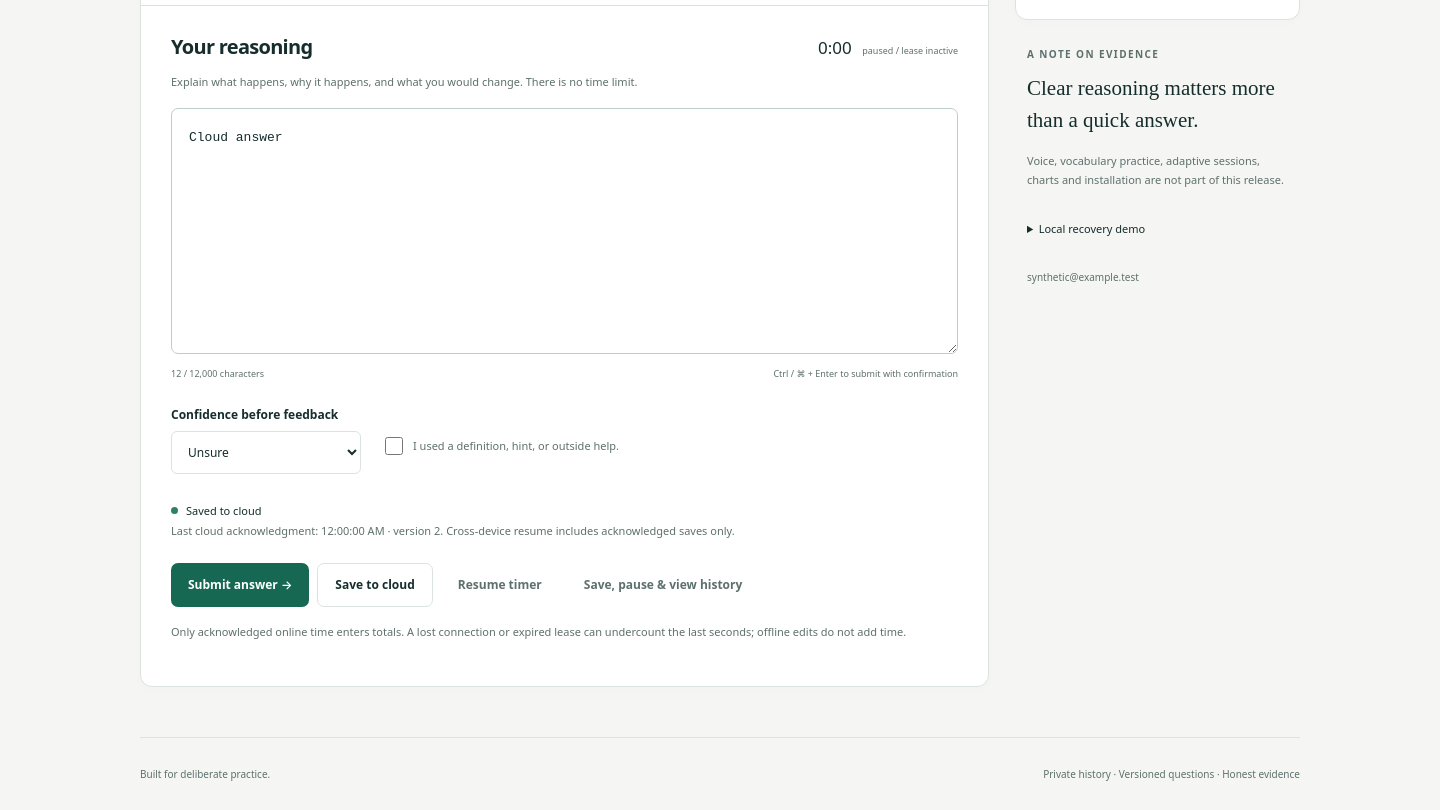
Scenario: opens a pinned historical version after saving and pausing an active draft when the catalog is empty
(page scrolled)
Check: the text box named "Your answer" is shown, box x1=171 y1=108 x2=958 y2=354
Click the button "Save, pause & view history" at (663, 585), box x1=567 y1=563 x2=759 y2=607
(page scrolled)
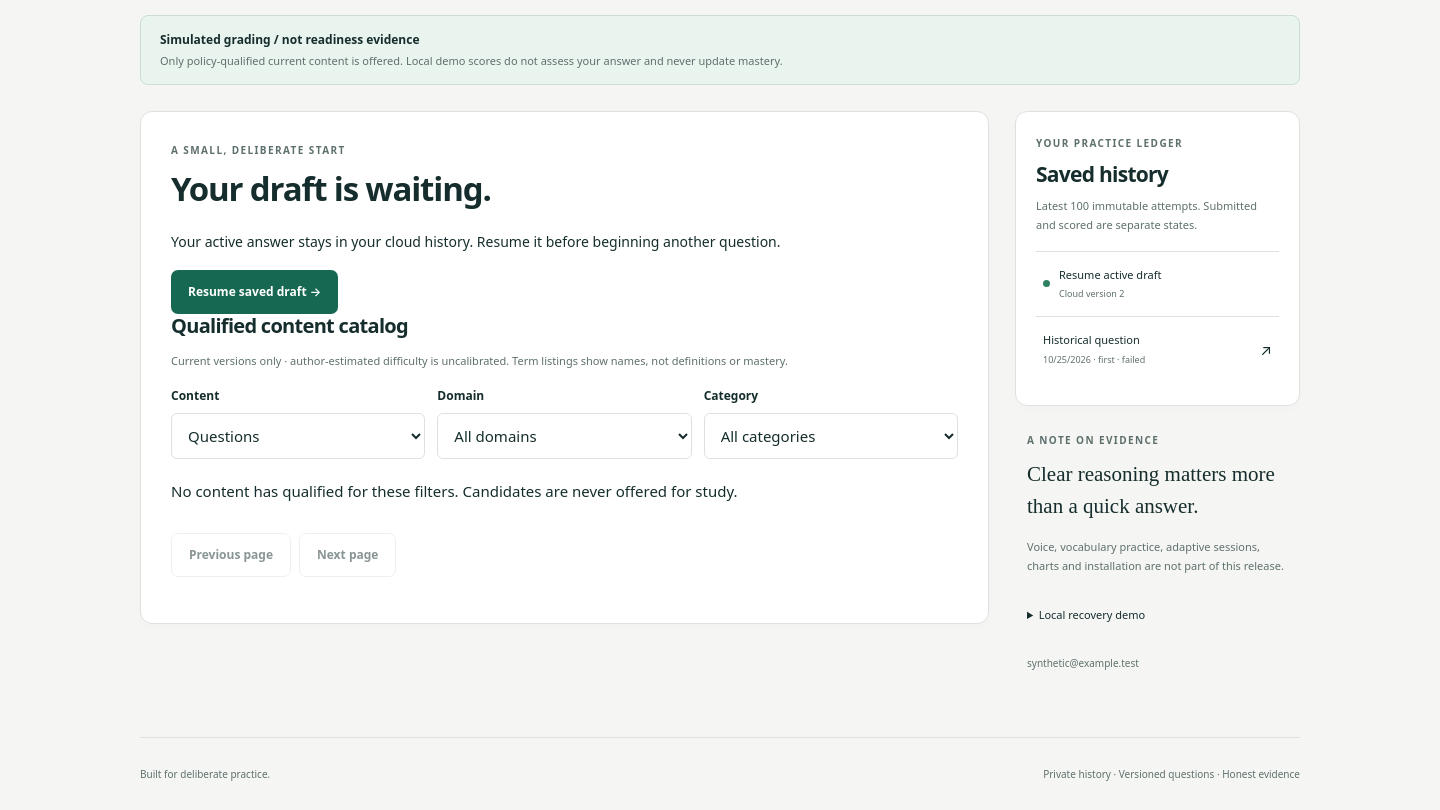
Check: the text "No content has qualified" is shown, box x1=171 y1=481 x2=738 y2=501
Click the button "Historical question 10/25/2026 · first · failed ↗" at (1158, 349), box x1=1036 y1=316 x2=1279 y2=382
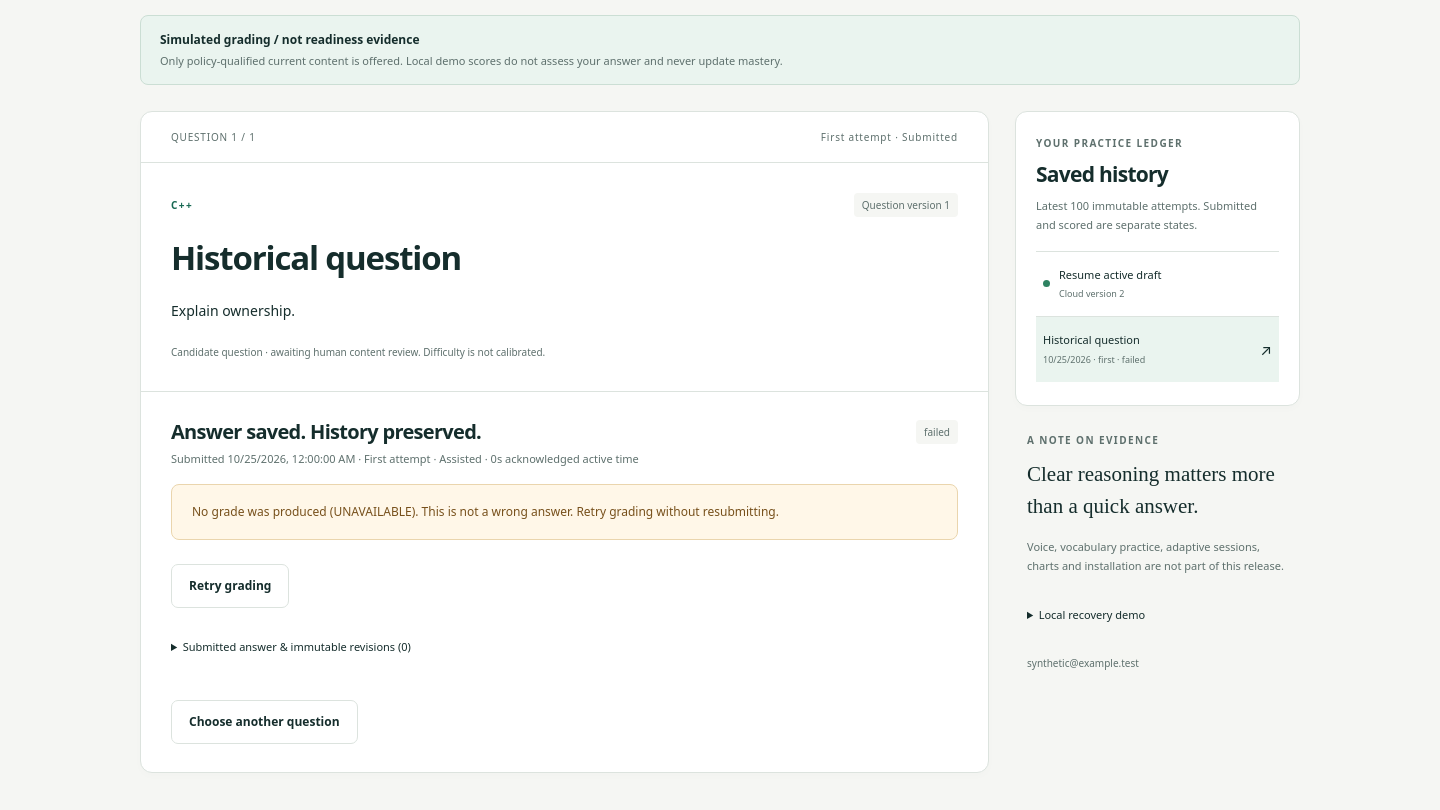
Check: the heading "Answer saved. History preserved." is shown, box x1=171 y1=420 x2=481 y2=444
Click the heading "Submitted answer & immutable revisions (0)" at (297, 646), box x1=183 y1=639 x2=411 y2=654
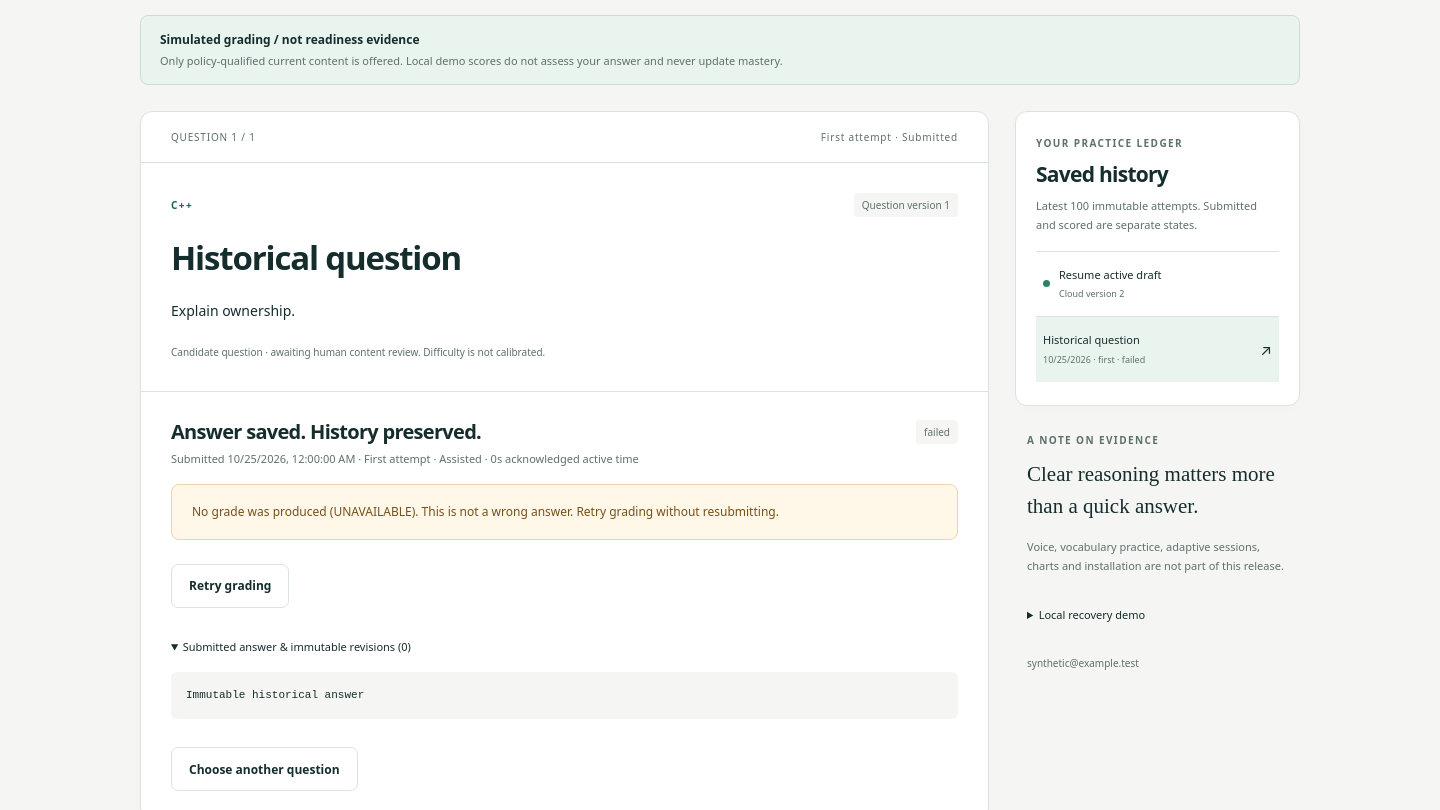
Check: the text "First attempt · Assisted" is shown, box x1=171 y1=451 x2=639 y2=466
Check: the text "Immutable historical answer" is shown, box x1=171 y1=672 x2=958 y2=719
